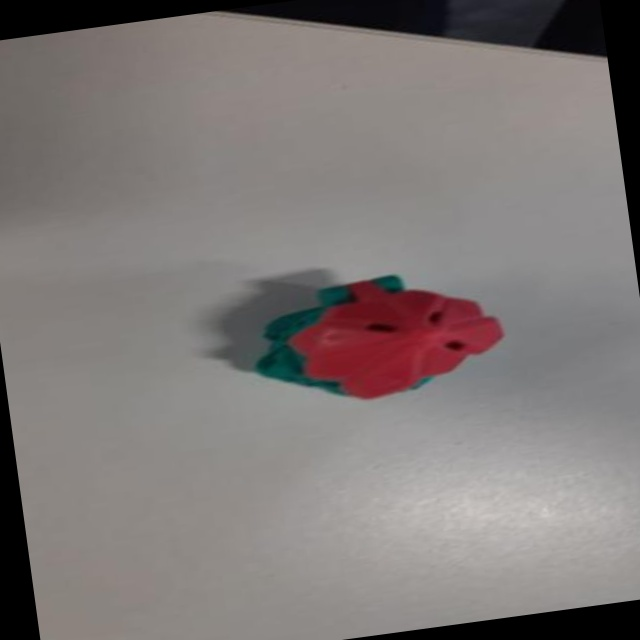House: (229, 259, 514, 417)
